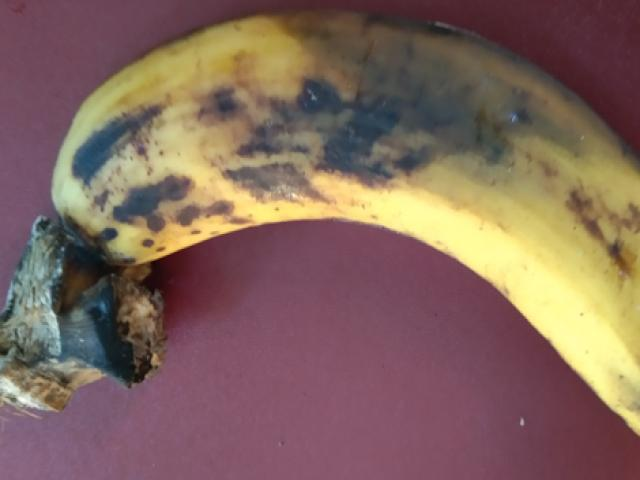rotten: (57, 6, 639, 452)
